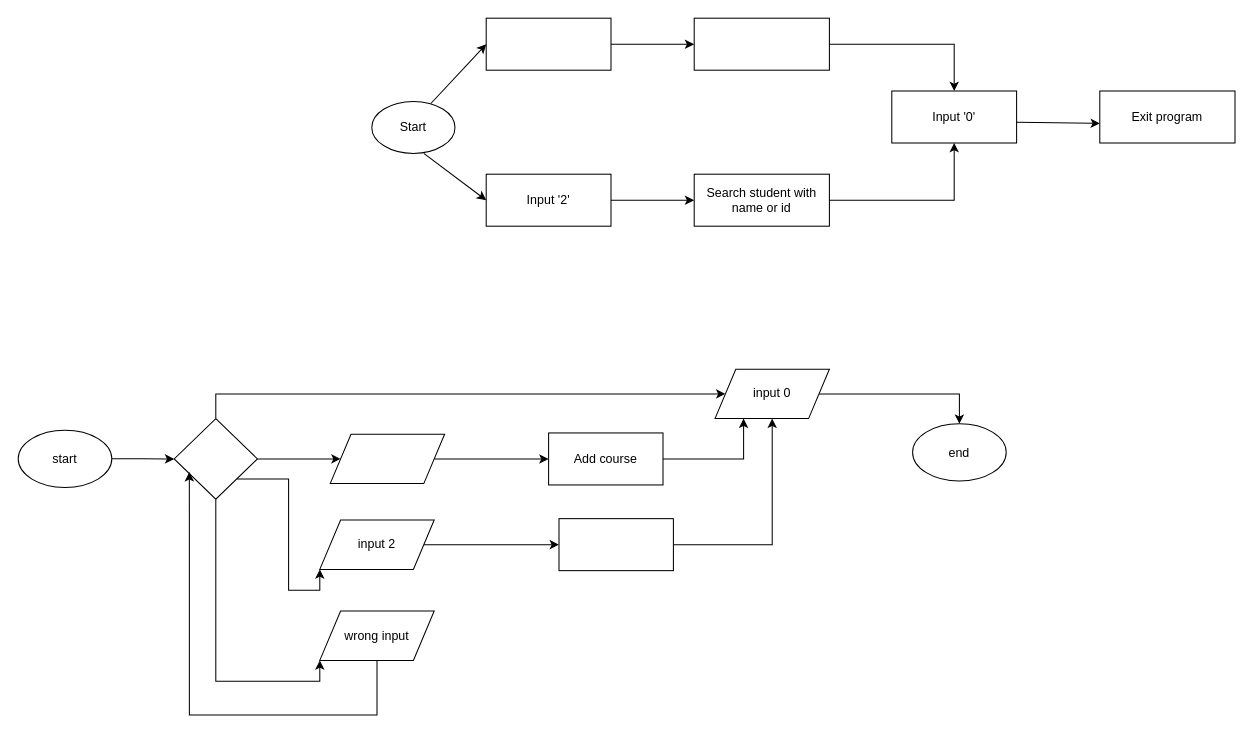
This 1253x742 diagram has some shape labels left out. The shapes that lost their labels are listed below. From the top down, each one's box as (x1, y1, x2, y2) in pixels, then its label:
(485, 17, 611, 70): Input '1'
(693, 17, 829, 70): Get name and id from input
(173, 418, 257, 499): Choose a command
(329, 433, 445, 484): input 1
(558, 518, 673, 571): Search course
